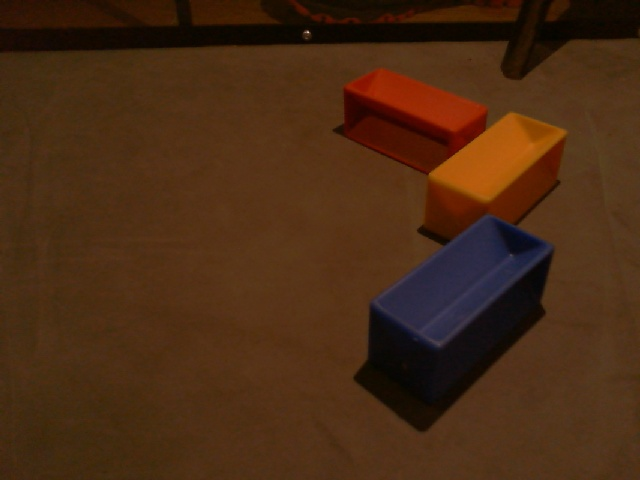BlueSample: (365, 213, 558, 402)
RedSample: (339, 65, 490, 179)
YellowSample: (419, 113, 568, 242)
